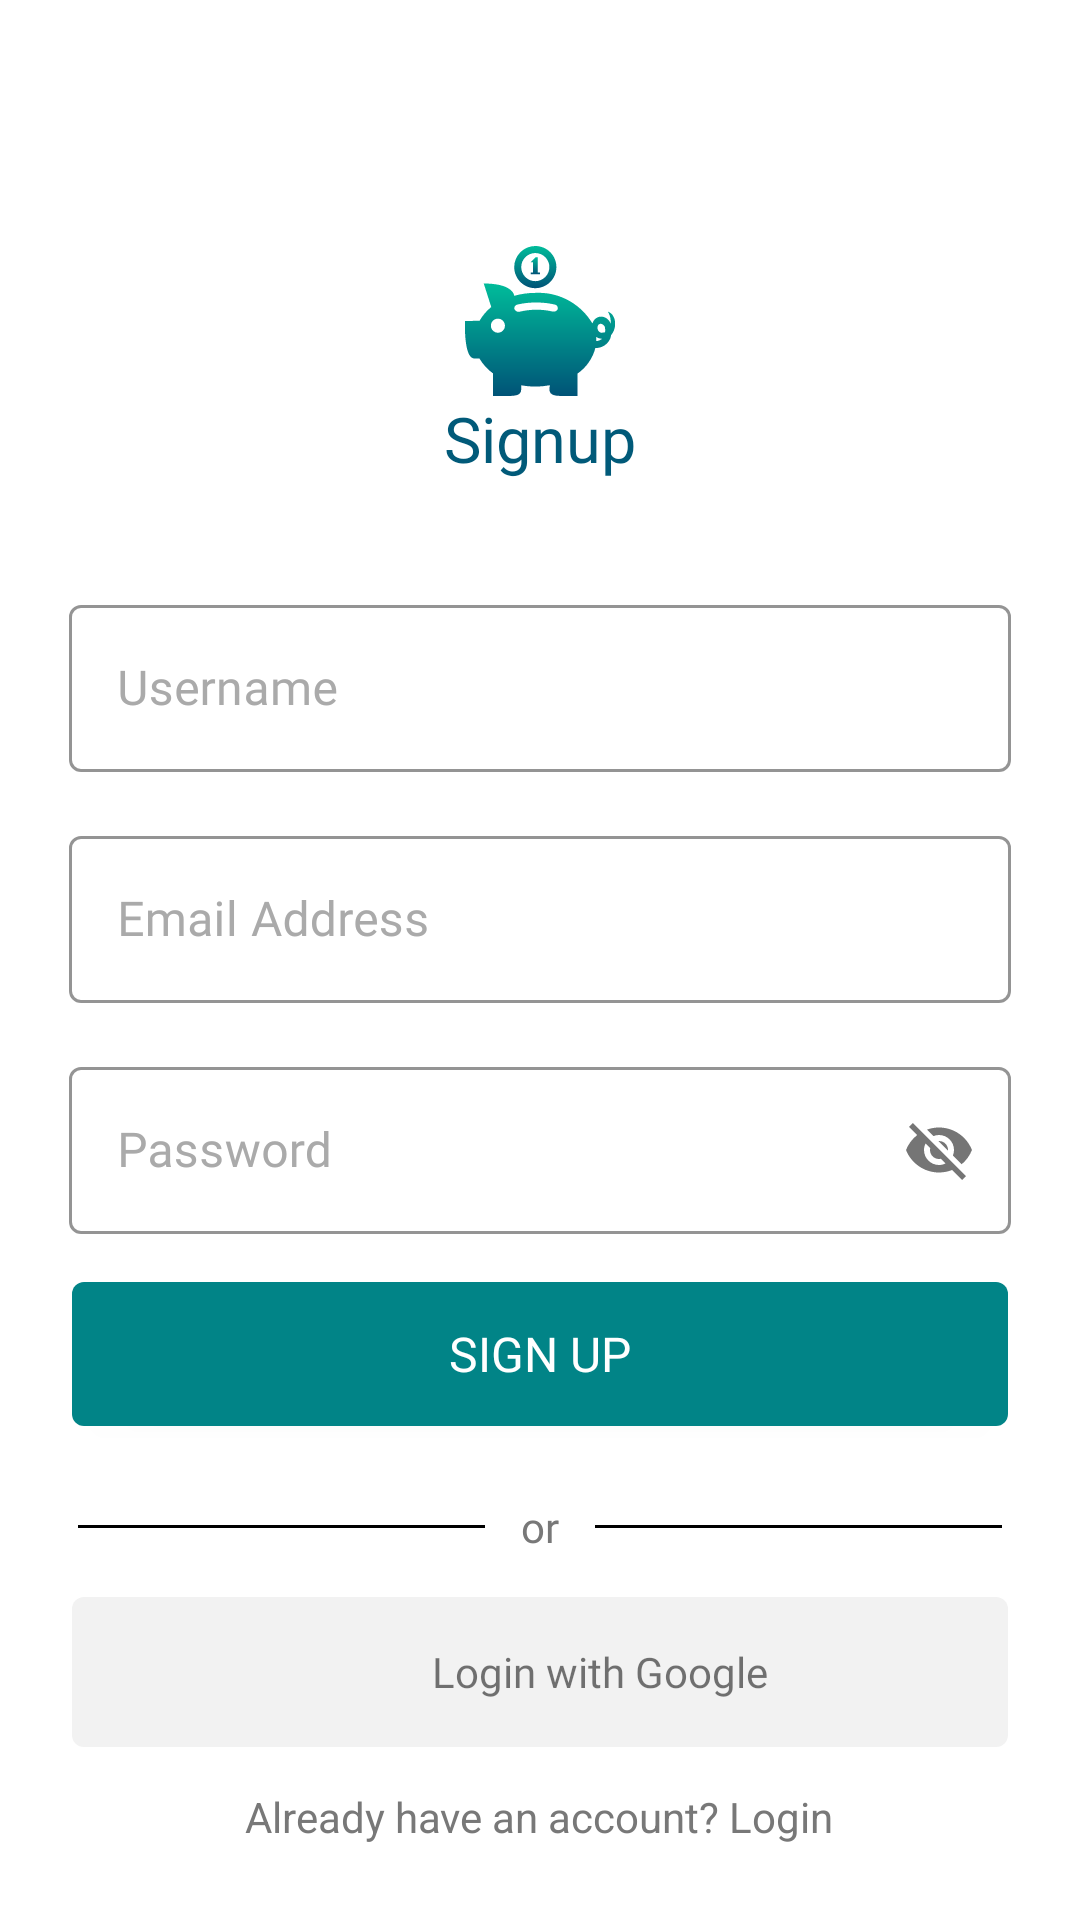

Icons on this 1080px×1920px Android screen, each with its box as Rect(x1, y1, x2, y2):
vaadin piggy bank coin: Rect(465, 246, 615, 396)
